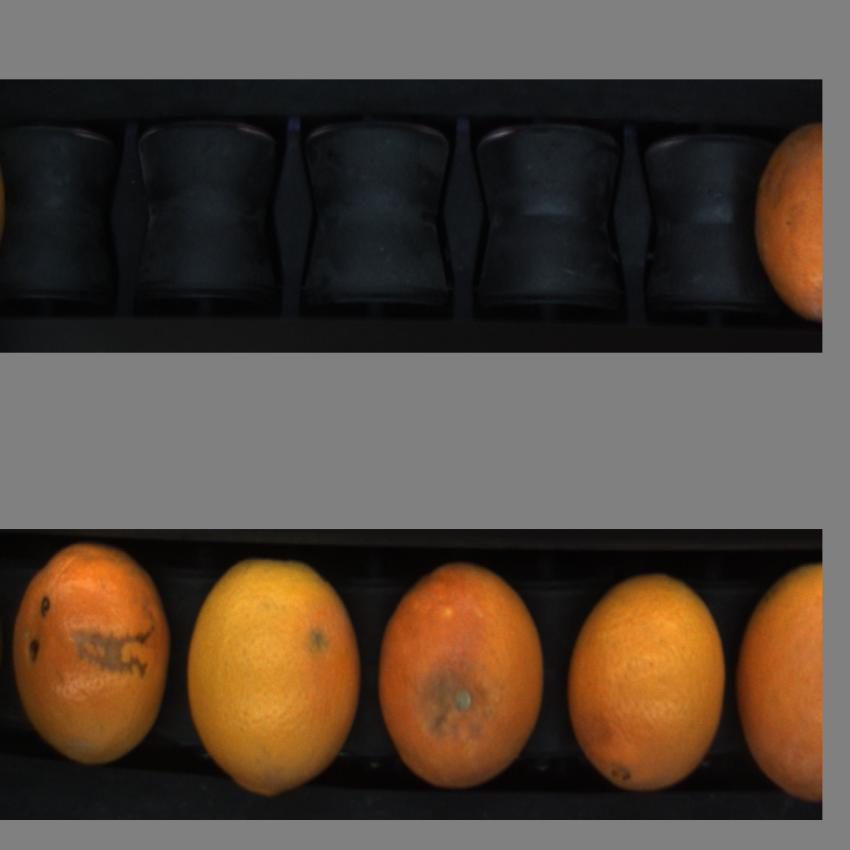Buen estado: (183, 552, 361, 806), (564, 557, 729, 797), (8, 543, 172, 776), (735, 558, 820, 801), (736, 102, 822, 334)
Mal estado: (379, 556, 552, 796)
